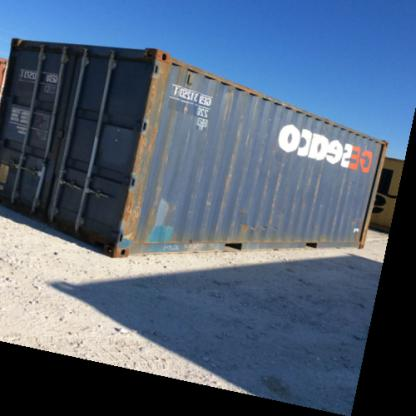Damage: (115, 58, 180, 254), (218, 80, 252, 214), (266, 156, 298, 238), (188, 173, 214, 229), (336, 168, 360, 218), (308, 156, 326, 222)
